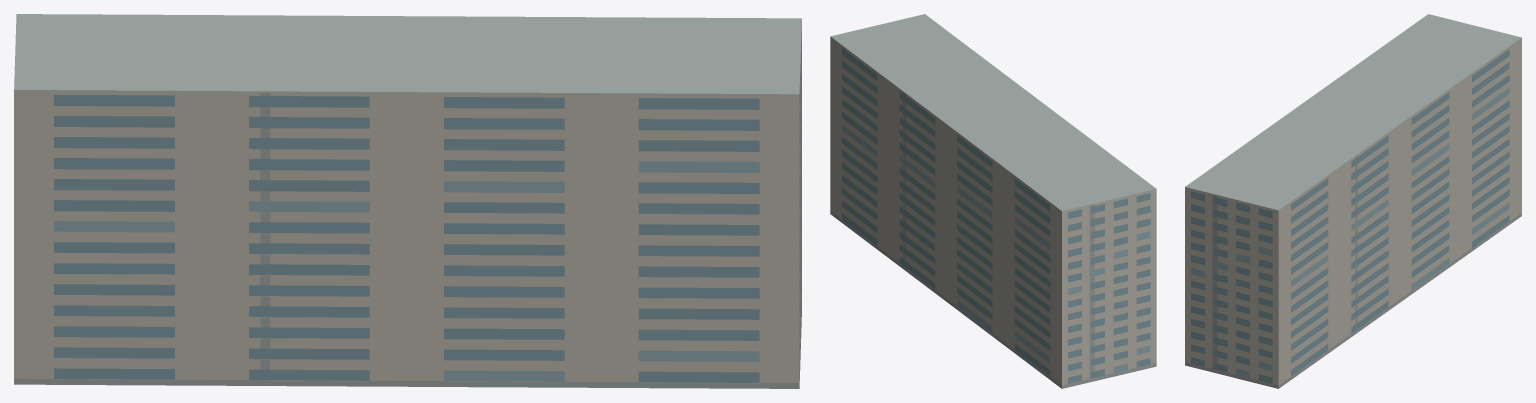
Rendered from residential-acd28e37-f9bf-4e54-a964-5f4bc915e897.glb.
3 views of the same model, side by side, from view 1: azimuth 30°, elevation 25°; view 2: azimuth 150°, elevation 25°; view 3: azimuth 270°, elevation 25° (orthographic). The views are drawn at different scales.
Parts seen in each view (by area): view 1: residential-acd28e37-f9bf-4e54-a964-5f4bc915e897.tmp; view 2: residential-acd28e37-f9bf-4e54-a964-5f4bc915e897.tmp; view 3: residential-acd28e37-f9bf-4e54-a964-5f4bc915e897.tmp.
Boxes of the visible parts, box(x1,y1,x2,y2) form: residential-acd28e37-f9bf-4e54-a964-5f4bc915e897.tmp: box(14, 14, 801, 388); residential-acd28e37-f9bf-4e54-a964-5f4bc915e897.tmp: box(830, 14, 1156, 388); residential-acd28e37-f9bf-4e54-a964-5f4bc915e897.tmp: box(1185, 14, 1521, 388).
Bounding box in the file's own units: 91.99 × 39 × 66.69.
